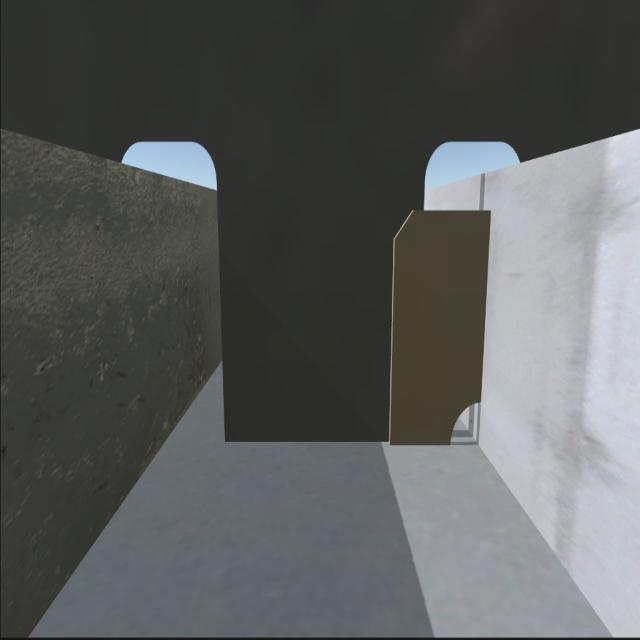fillet_hole: (447, 400, 482, 447)
fillet_yong_jeop_jang: (228, 439, 452, 454)
longi_yong_jeop_jang: (481, 214, 498, 402)
plate_CP03: (388, 212, 488, 449)
